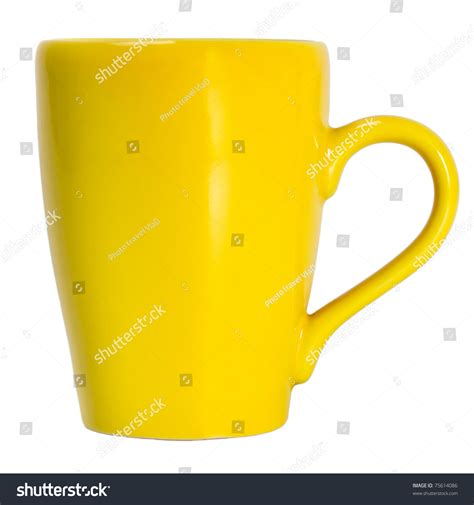???: (34, 37, 460, 440)
